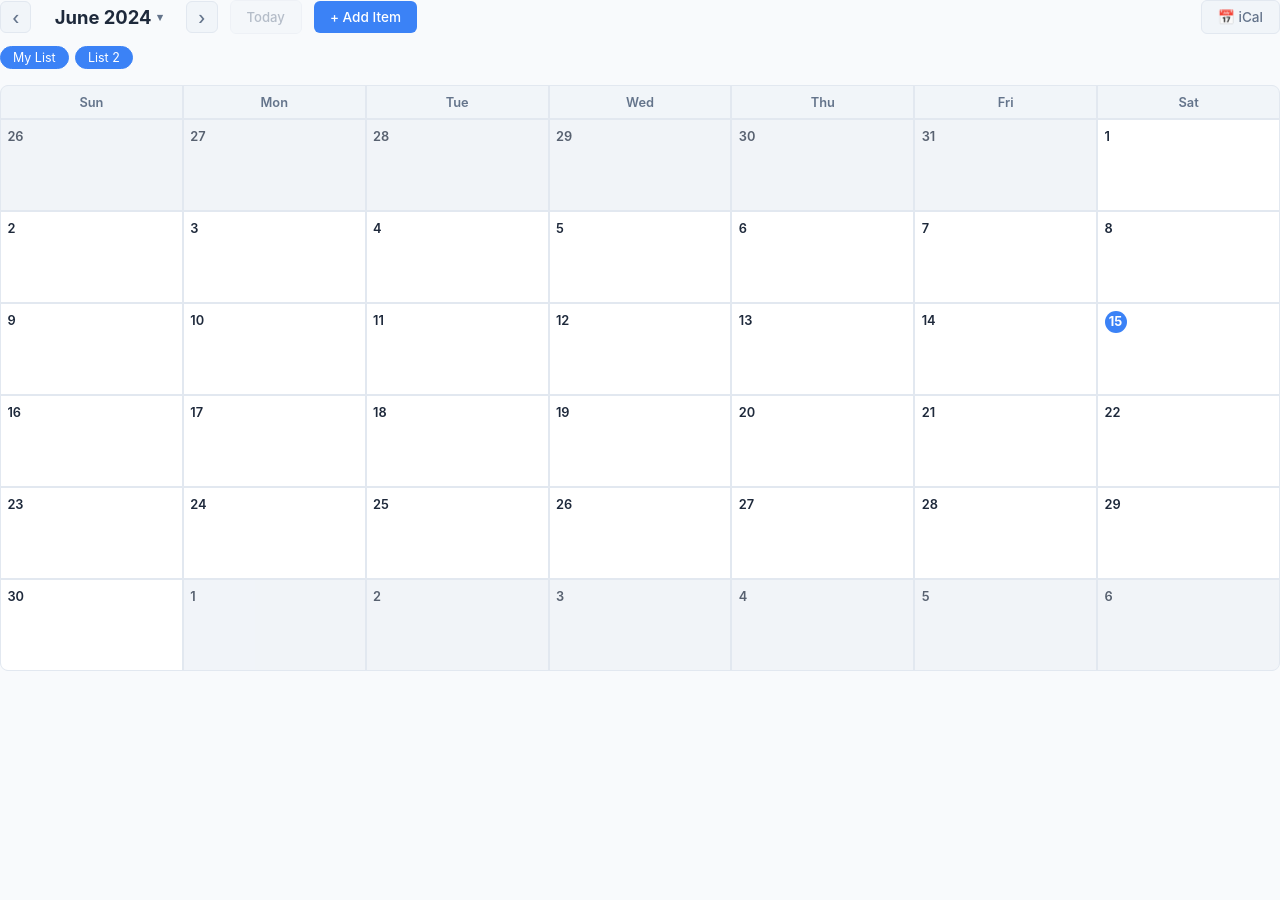
CalendarView › shows validation error when submitting add form without selecting a list
The width and height of the screenshot is (1280, 900).
Click the button with class "add-btn".
click(365, 17)  # box [314,1,417,33]
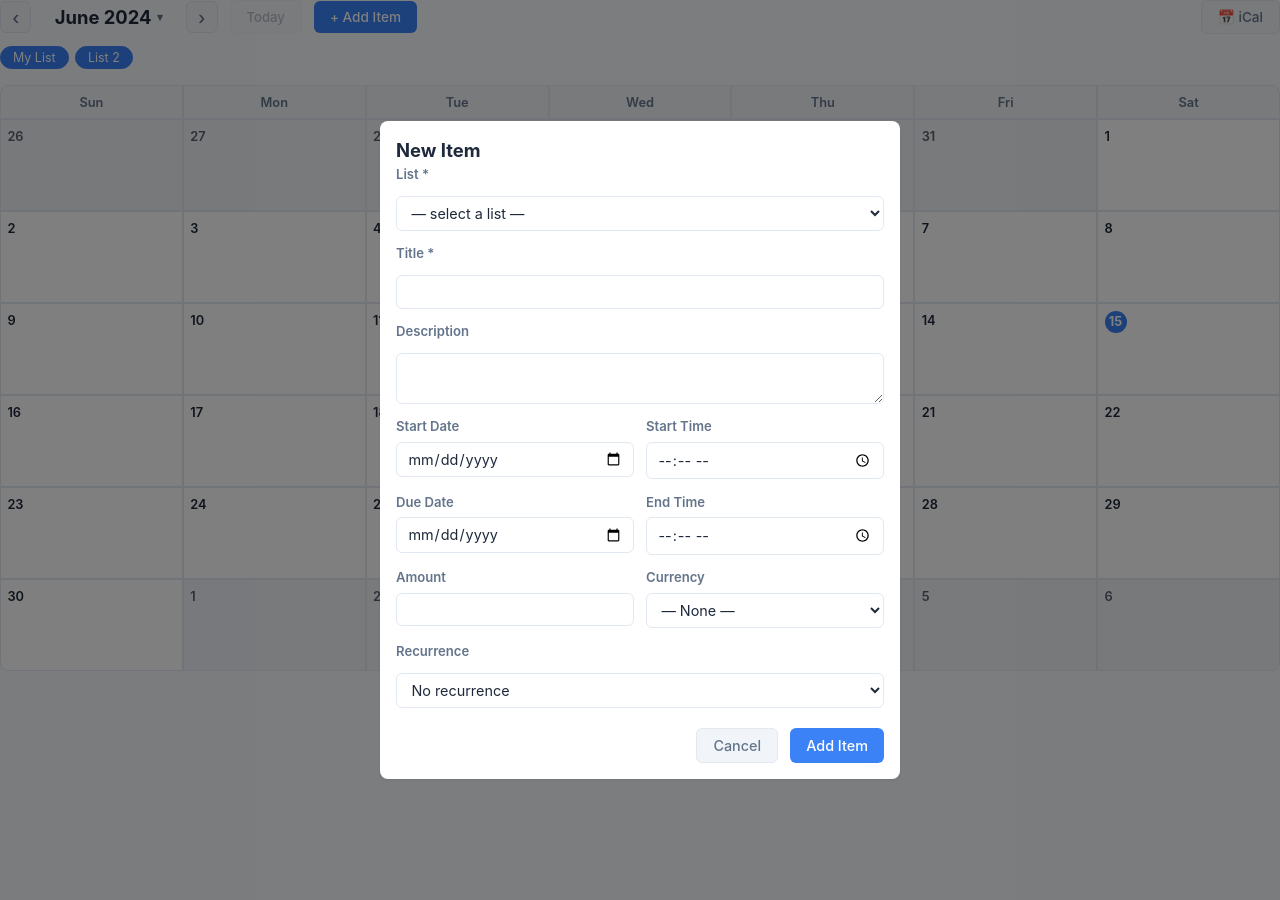
Type "New Task" into the field.
click(640, 292); type("New Task")  # box [396,275,884,309]
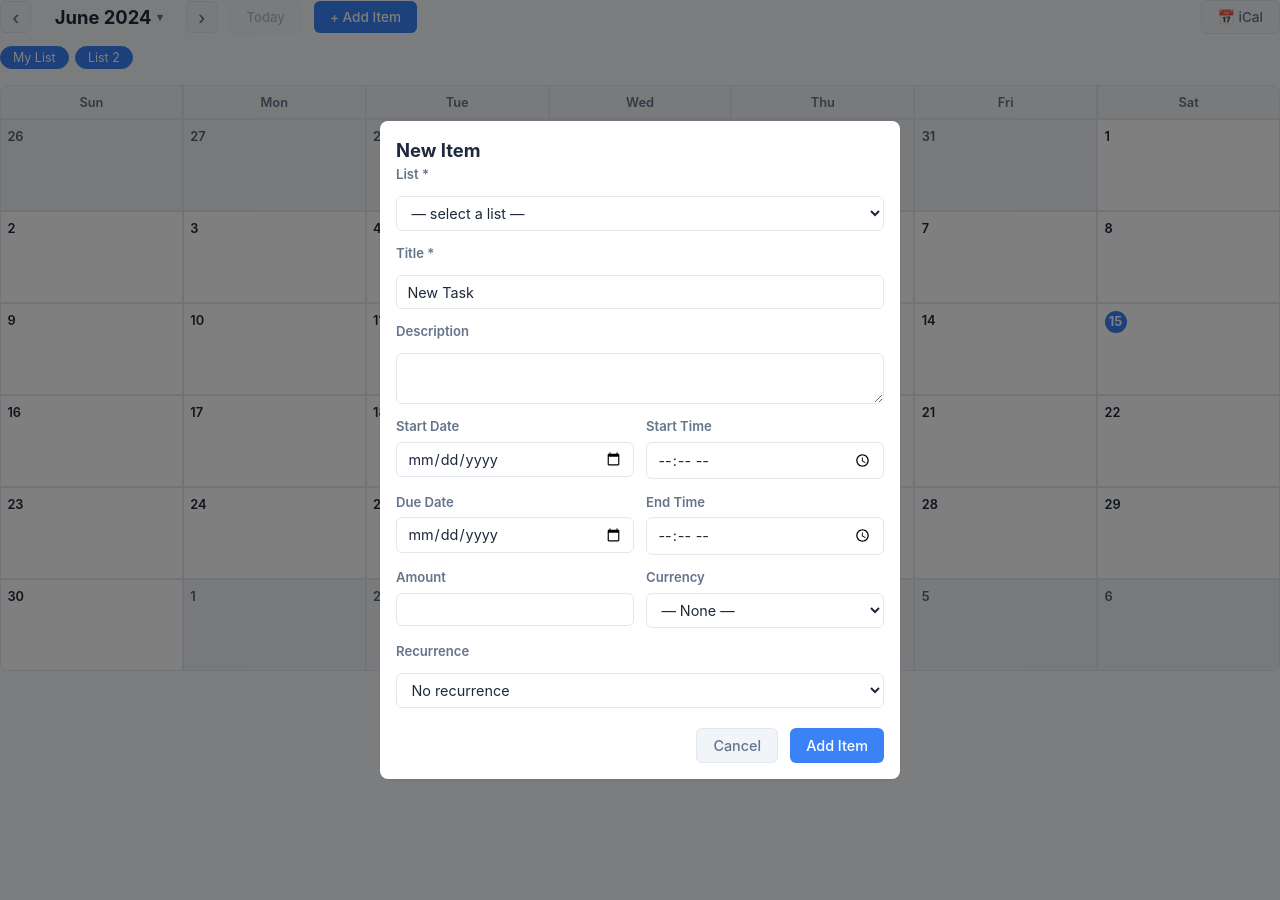
Submit the form, box [396,165,884,763]
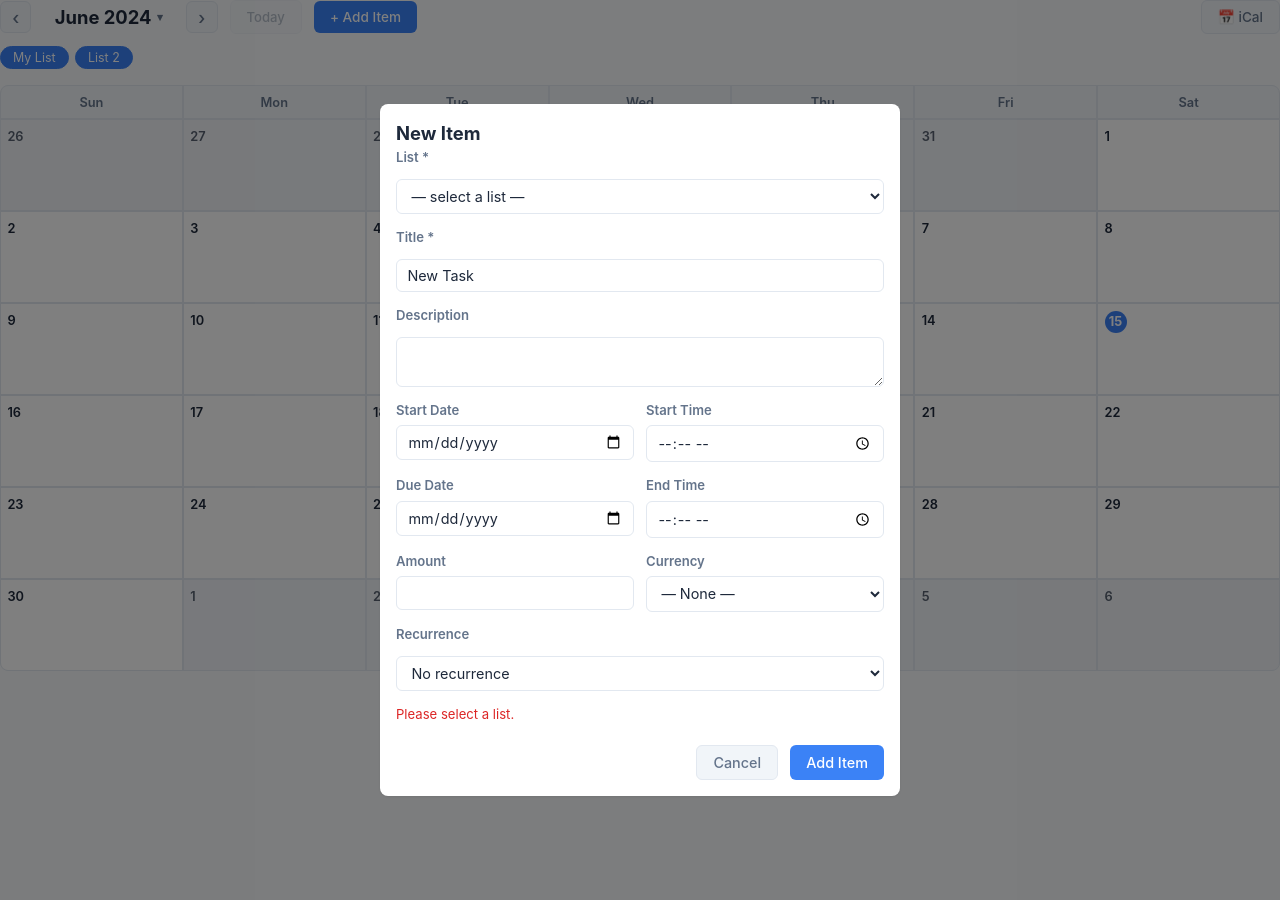
Now the text "Please select a list" is shown, box [396,706,514,722]
